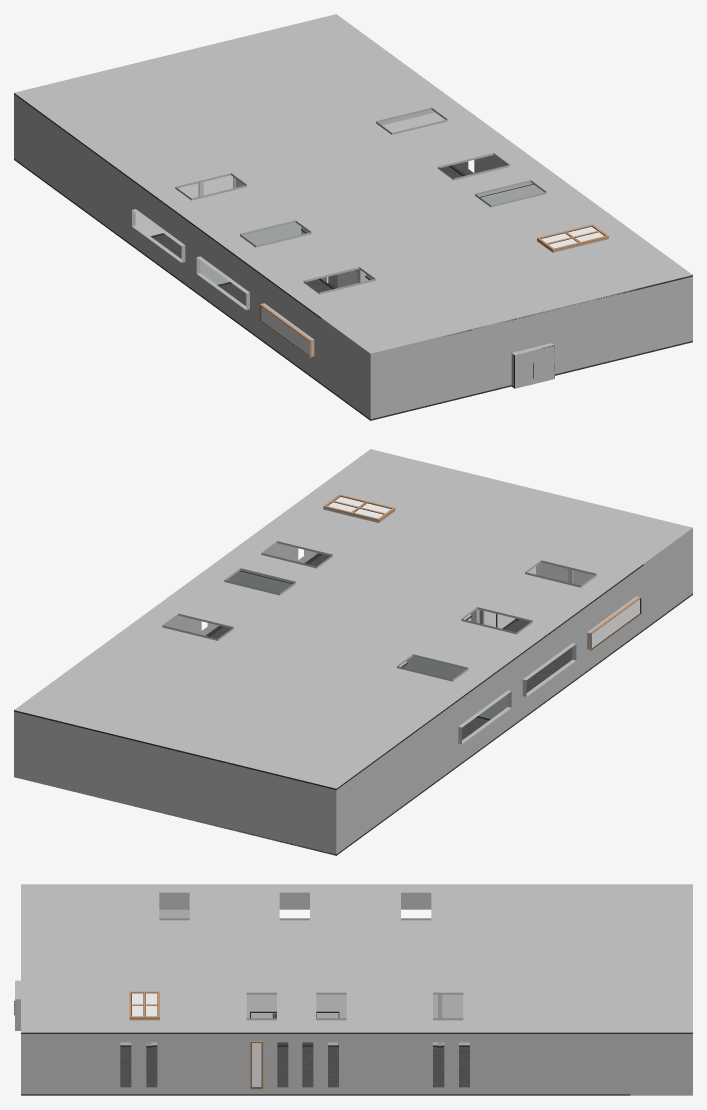
File: Build.fbx
The picture shows the model from 3 angles, top to bottom: view 1: azimuth 30°, elevation 25°; view 2: azimuth 150°, elevation 25°; view 3: azimuth 270°, elevation 25°; orthographic projection. The views are drawn at different scales.
Parts seen in each view (by area): view 1: SM_Build, SM_Office_1, SM_Office_2, SM_Window_horizontal_2, SM_Window_Roof_1; view 2: SM_Build, SM_Office_1, SM_Office_2, SM_Window_horizontal_2; view 3: SM_Build, SM_Office_2, SM_Office_1, SM_Window_Roof_2, SM_Window_vertical_2, SM_Window_Roof_1.
Boxes of the visible parts, x1=… form: SM_Build: x1=14, y1=14, x2=692, y2=419; SM_Office_1: x1=14, y1=93, x2=692, y2=420; SM_Office_2: x1=378, y1=110, x2=543, y2=205; SM_Window_horizontal_2: x1=261, y1=306, x2=309, y2=355; SM_Window_Roof_1: x1=537, y1=224, x2=608, y2=251; SM_Build: x1=14, y1=449, x2=692, y2=854; SM_Office_1: x1=14, y1=553, x2=692, y2=855; SM_Office_2: x1=227, y1=570, x2=293, y2=593; SM_Window_horizontal_2: x1=592, y1=599, x2=639, y2=648; SM_Build: x1=15, y1=884, x2=692, y2=1095; SM_Office_2: x1=120, y1=994, x2=469, y2=1047; SM_Office_1: x1=21, y1=1032, x2=692, y2=1095; SM_Window_Roof_2: x1=132, y1=993, x2=157, y2=1016; SM_Window_vertical_2: x1=251, y1=1043, x2=261, y2=1087; SM_Window_Roof_1: x1=129, y1=991, x2=159, y2=1019.
Size of the model in its own units: 2359 by 483 by 4482.
